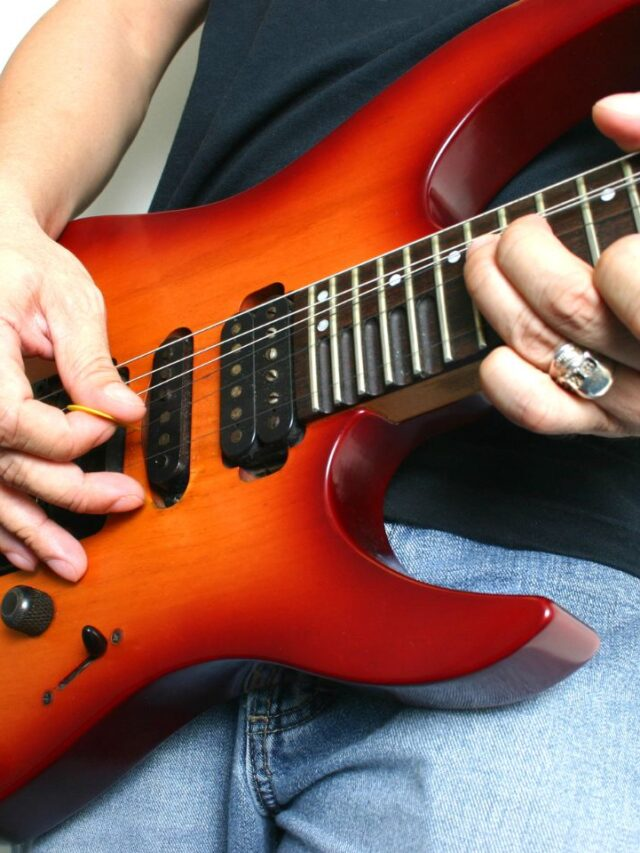guitar: (0, 67, 640, 853), (127, 52, 640, 491)
